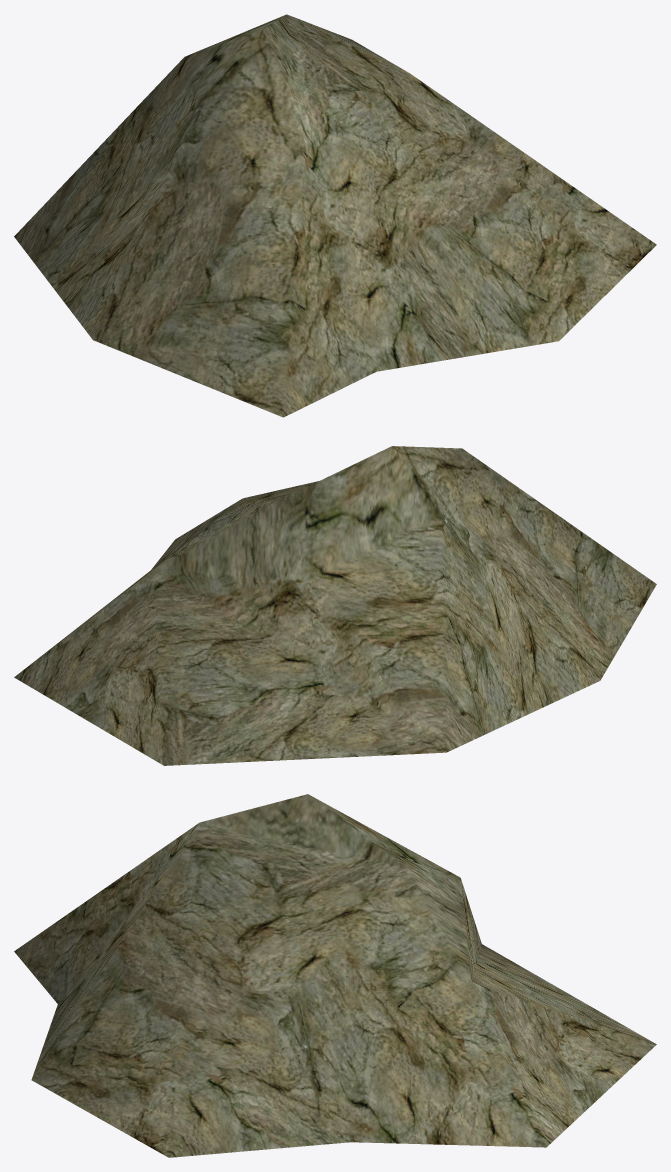
File: rock_plain_white_a2_l3.fbx
The picture shows the model from 3 angles, top to bottom: view 1: azimuth 30°, elevation 25°; view 2: azimuth 150°, elevation 25°; view 3: azimuth 270°, elevation 25°; orthographic projection. The views are drawn at different scales.
Parts seen in each view (by area): view 1: mesh_node; view 2: mesh_node; view 3: mesh_node.
Boxes of the visible parts, bbox=[...] form: mesh_node: bbox=[14, 14, 656, 417]; mesh_node: bbox=[14, 446, 656, 765]; mesh_node: bbox=[14, 794, 656, 1157].
Bounding box in the file's own units: 7.22 × 3.15 × 8.35.
